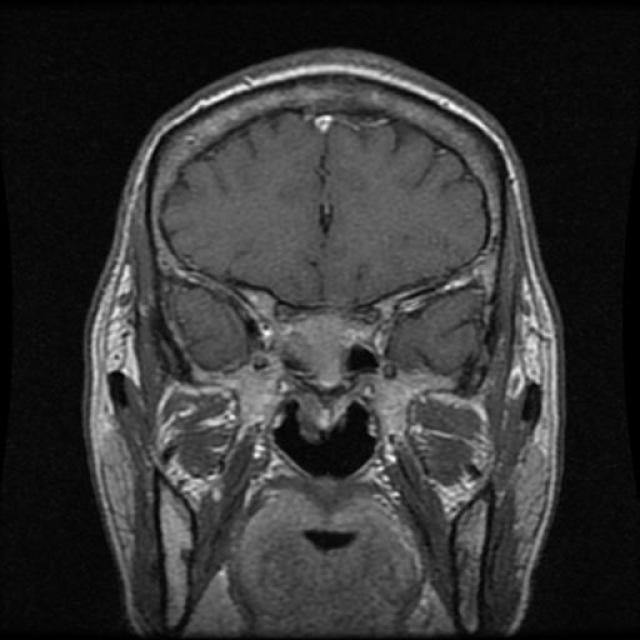pituitary: (244, 292, 398, 469)
